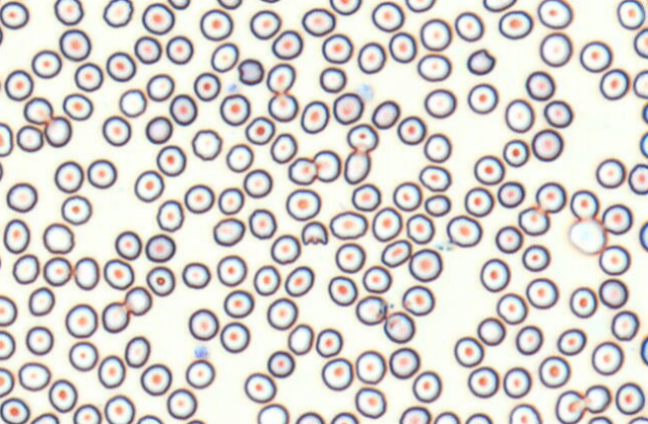PLT: (357, 82, 374, 101), (192, 343, 211, 359), (226, 81, 241, 95)
RBC: (568, 218, 606, 254), (285, 188, 321, 221), (446, 214, 482, 247), (408, 248, 442, 282), (539, 32, 572, 67), (591, 341, 624, 375), (65, 303, 97, 338), (371, 206, 402, 242), (329, 210, 367, 239), (321, 357, 353, 391), (199, 8, 233, 40), (479, 257, 510, 292), (355, 349, 386, 384), (401, 284, 434, 316), (538, 355, 570, 388), (59, 28, 91, 61), (525, 277, 558, 309), (266, 297, 298, 330), (141, 2, 174, 34), (531, 128, 563, 161), (419, 18, 451, 51), (579, 40, 612, 72), (504, 98, 534, 133), (537, 0, 573, 29), (354, 386, 386, 418), (467, 366, 499, 398), (42, 222, 74, 254), (388, 347, 420, 379), (140, 363, 172, 395), (555, 390, 586, 423), (243, 372, 276, 403), (371, 1, 404, 32), (219, 93, 250, 126), (498, 10, 533, 39), (383, 311, 414, 343), (60, 194, 92, 225), (103, 258, 134, 290), (496, 292, 527, 324), (219, 321, 250, 353), (332, 92, 363, 124), (191, 128, 222, 160), (188, 308, 219, 340), (535, 181, 566, 213), (598, 244, 630, 275), (216, 254, 247, 286), (467, 82, 498, 114), (517, 206, 550, 236), (411, 370, 441, 403), (615, 382, 645, 415), (134, 169, 164, 202), (423, 88, 456, 118), (48, 378, 77, 412), (300, 100, 329, 134), (301, 7, 335, 36), (2, 218, 30, 253), (416, 53, 451, 81), (166, 388, 197, 419), (601, 203, 632, 234), (105, 51, 136, 82), (334, 242, 365, 273), (473, 154, 504, 185), (18, 361, 50, 391), (355, 295, 387, 325), (156, 144, 186, 176), (249, 9, 281, 39), (599, 68, 629, 100), (321, 33, 353, 63), (54, 160, 83, 193), (212, 217, 245, 246), (312, 149, 341, 182), (343, 150, 371, 184), (97, 354, 125, 388), (6, 182, 37, 212), (569, 189, 599, 220), (453, 336, 483, 367), (327, 275, 357, 306), (267, 92, 298, 122), (244, 115, 275, 145), (86, 158, 117, 188), (595, 157, 625, 188), (101, 115, 131, 146), (270, 233, 300, 264), (464, 186, 494, 217), (284, 265, 314, 296), (271, 29, 302, 59), (525, 70, 555, 101), (346, 123, 378, 152), (502, 366, 531, 398), (4, 69, 33, 101), (418, 164, 451, 192), (357, 41, 385, 74), (185, 359, 215, 389), (68, 341, 98, 371), (242, 168, 272, 198), (598, 278, 628, 308), (184, 183, 214, 213), (392, 181, 422, 211), (396, 115, 426, 145), (454, 11, 484, 41), (104, 394, 135, 423), (223, 289, 254, 318), (380, 239, 411, 268), (405, 213, 434, 244), (610, 310, 639, 341), (266, 62, 295, 93), (144, 233, 175, 262), (146, 265, 175, 296), (44, 115, 72, 147), (101, 301, 129, 333), (156, 199, 184, 231), (169, 93, 197, 125), (569, 286, 597, 318), (388, 31, 416, 63), (73, 256, 99, 290), (287, 156, 317, 185), (42, 256, 71, 286), (31, 49, 61, 78), (210, 42, 239, 72), (371, 99, 400, 129), (543, 99, 573, 128), (62, 92, 93, 120), (248, 208, 276, 239), (423, 132, 451, 163), (287, 323, 314, 355), (0, 0, 29, 29), (616, 0, 645, 29), (362, 264, 391, 293), (118, 88, 147, 117), (74, 62, 103, 91), (124, 285, 152, 315), (23, 96, 53, 124), (477, 316, 505, 346), (515, 325, 543, 355), (25, 325, 53, 355), (351, 183, 381, 211), (12, 253, 39, 284), (102, 0, 133, 27), (270, 132, 297, 163), (253, 264, 280, 295), (124, 335, 150, 367), (266, 350, 295, 378), (521, 244, 550, 272), (181, 261, 210, 289), (494, 225, 523, 253), (225, 143, 253, 172), (165, 35, 193, 64), (315, 327, 342, 357), (556, 328, 586, 355), (114, 230, 141, 260), (497, 180, 525, 208), (146, 73, 174, 101), (584, 384, 611, 413), (145, 115, 172, 144), (217, 186, 244, 215), (193, 72, 220, 101), (134, 35, 161, 64), (502, 138, 529, 167), (28, 286, 54, 316), (16, 124, 43, 152), (0, 397, 29, 423), (53, 0, 83, 25), (319, 66, 346, 93), (256, 403, 289, 423), (508, 403, 541, 423), (424, 193, 451, 217), (628, 163, 647, 194), (72, 403, 101, 423), (399, 405, 430, 423), (0, 294, 17, 326), (329, 0, 361, 15), (0, 329, 15, 360), (632, 69, 647, 99), (0, 122, 13, 156), (633, 27, 647, 58), (0, 367, 14, 397), (482, 0, 516, 12), (294, 411, 324, 423), (405, 0, 435, 12), (330, 411, 358, 423), (433, 411, 460, 423), (30, 412, 59, 423), (464, 412, 492, 423), (639, 220, 647, 251), (136, 414, 163, 423), (216, 0, 242, 9), (639, 130, 647, 158), (640, 335, 647, 365), (587, 415, 613, 423), (167, 0, 190, 9), (627, 416, 647, 423), (641, 101, 647, 124), (185, 418, 205, 424), (258, 0, 281, 3), (0, 25, 3, 45), (0, 161, 3, 181)
Schistocyte: (465, 49, 496, 76), (238, 59, 265, 85), (301, 221, 329, 246)
